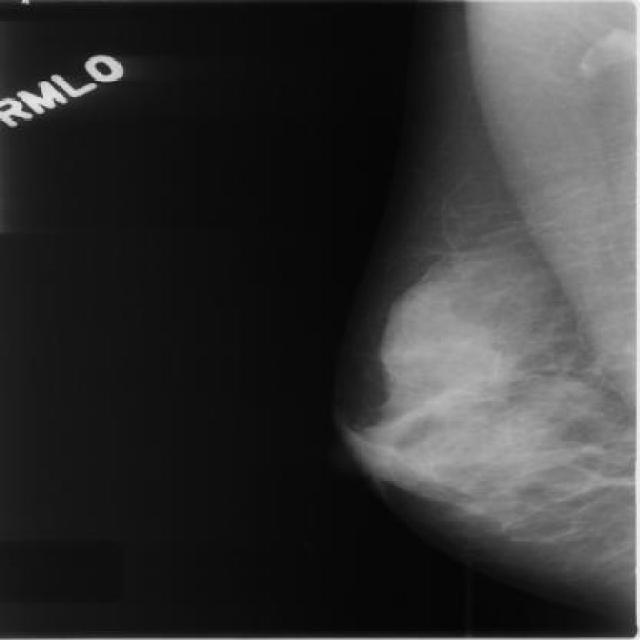tumor: (364, 282, 572, 496)
